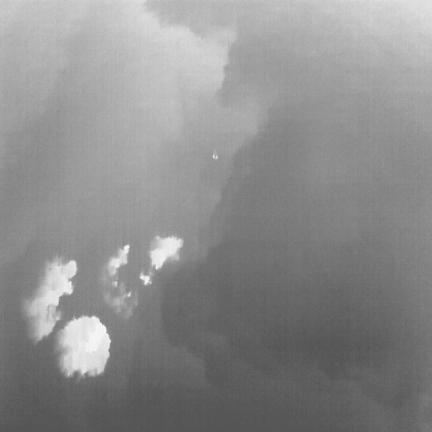flukeprints: (23, 258, 76, 343), (57, 316, 110, 376), (150, 236, 182, 269), (107, 245, 128, 277), (139, 272, 151, 285)
